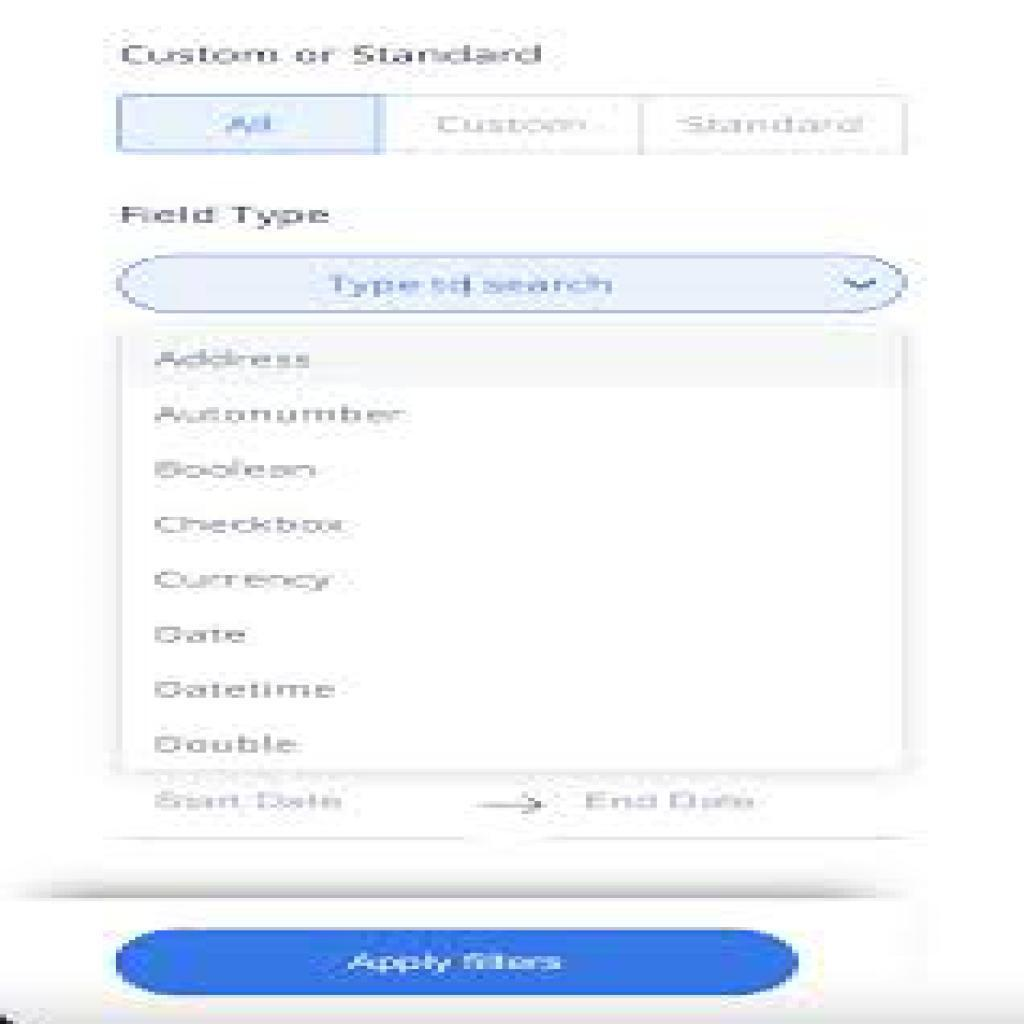button: (115, 931, 800, 998), (381, 94, 645, 155), (645, 94, 907, 155), (120, 92, 375, 153)
dropdown: (117, 256, 907, 315)
